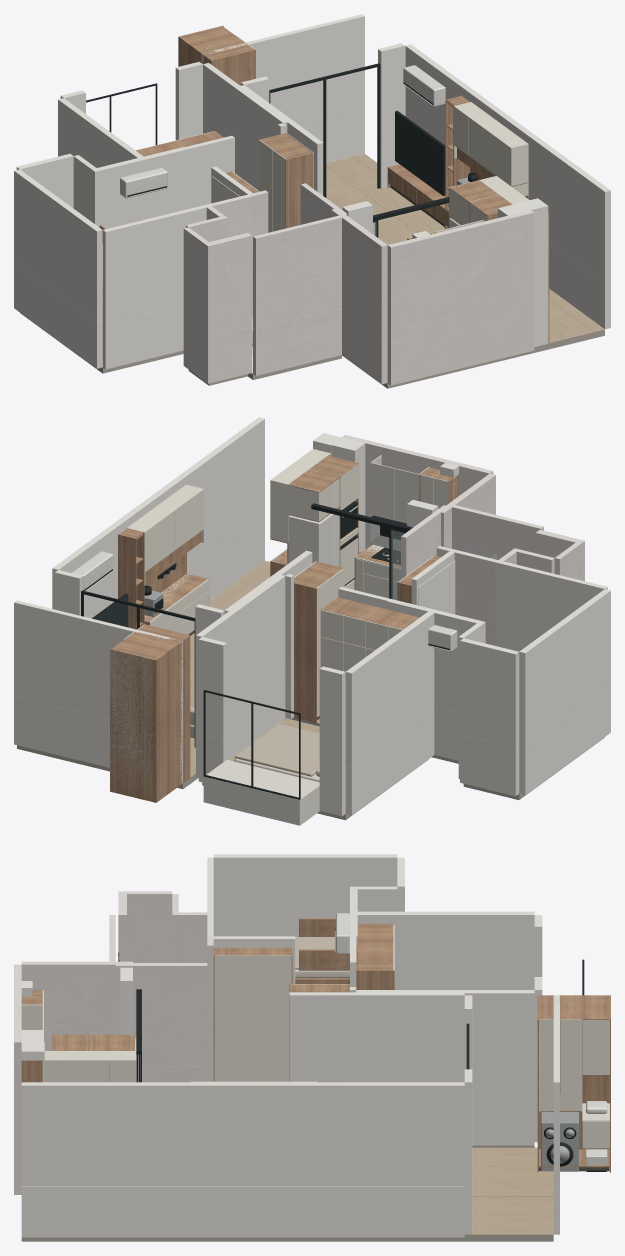
File: home.glb
The picture shows the model from 3 angles, top to bottom: view 1: azimuth 30°, elevation 25°; view 2: azimuth 150°, elevation 25°; view 3: azimuth 270°, elevation 25°; orthographic projection. The views are drawn at different scales.
Visible parts, largest first — view 1: second__wall-high__菱花白 OW025-4 电子参考 F3F0EA, kitchen__wall-high__奶芙米 SF-V157509-0822X 750x1500, bath__wall-high__奶芙米 SF-V157509-0822X 750x1500, living__wall-high__菱花白 OW025-4 电子参考 F3F0EA, master__wall-high__菱花白 OW025-4 电子参考 F3F0EA, balcony__uncertain-high__菱花白 OW025-4 电子参考 F3F0EA, second__wall-low__菱花白 OW025-4 电子参考 F3F0EA, bath__wall-low__奶芙米 SF-V157509-0822X 750x1500, living__solid__蜜杏 SF-WI1U1260805X 600x1200, living__solid__10447EBH 奶油白 官网电子板样, living__wall-low__菱花白 OW025-4 电子参考 F3F0EA, living__solid__10034Y06 南非柚木 官网电子板样 (+20 smaller); view 2: second__wall-high__菱花白 OW025-4 电子参考 F3F0EA, master__wall-high__菱花白 OW025-4 电子参考 F3F0EA, balcony__solid__10034Y06 南非柚木 官网电子板样, living__wall-high__菱花白 OW025-4 电子参考 F3F0EA, bath__wall-high__奶芙米 SF-V157509-0822X 750x1500, balcony__uncertain-high__菱花白 OW025-4 电子参考 F3F0EA, master__wall-low__菱花白 OW025-4 电子参考 F3F0EA, second__wall-low__菱花白 OW025-4 电子参考 F3F0EA, kitchen__solid__10447EBH 奶油白 官网电子板样, master__solid__暖白石材 具体石种待选, living__solid__10447EBH 奶油白 官网电子板样, balcony__wall-low__菱花白 OW025-4 电子参考 F3F0EA (+24 smaller); view 3: living__wall-high__菱花白 OW025-4 电子参考 F3F0EA, living__wall-low__菱花白 OW025-4 电子参考 F3F0EA, master__wall-high__菱花白 OW025-4 电子参考 F3F0EA, second__wall-high__菱花白 OW025-4 电子参考 F3F0EA, bath__wall-high__奶芙米 SF-V157509-0822X 750x1500, corridor__solid__10447EBH 奶油白 官网电子板样, kitchen__wall-high__奶芙米 SF-V157509-0822X 750x1500, balcony__solid__蜜杏 SF-WI1U1260805X 600x1200, balcony__solid__10447EBH 奶油白 官网电子板样, balcony__solid__10034Y06 南非柚木 官网电子板样, master__wall-low__菱花白 OW025-4 电子参考 F3F0EA, entry__solid__10447EBH 奶油白 官网电子板样 (+15 smaller).
Part boxes in pixels (bbox=[...]): second__wall-high__菱花白 OW025-4 电子参考 F3F0EA: bbox=[14, 147, 252, 322]; kitchen__wall-high__奶芙米 SF-V157509-0822X 750x1500: bbox=[331, 208, 534, 385]; bath__wall-high__奶芙米 SF-V157509-0822X 750x1500: bbox=[183, 183, 346, 337]; living__wall-high__菱花白 OW025-4 电子参考 F3F0EA: bbox=[239, 43, 610, 282]; master__wall-high__菱花白 OW025-4 电子参考 F3F0EA: bbox=[58, 61, 288, 218]; balcony__uncertain-high__菱花白 OW025-4 电子参考 F3F0EA: bbox=[201, 14, 364, 123]; second__wall-low__菱花白 OW025-4 电子参考 F3F0EA: bbox=[14, 262, 183, 369]; bath__wall-low__奶芙米 SF-V157509-0822X 750x1500: bbox=[183, 287, 341, 383]; living__solid__蜜杏 SF-WI1U1260805X 600x1200: bbox=[331, 187, 604, 343]; living__solid__10447EBH 奶油白 官网电子板样: bbox=[449, 102, 528, 227]; living__wall-low__菱花白 OW025-4 电子参考 F3F0EA: bbox=[380, 139, 610, 329]; living__solid__10034Y06 南非柚木 官网电子板样: bbox=[387, 95, 528, 228]; second__wall-high__菱花白 OW025-4 电子参考 F3F0EA: bbox=[387, 550, 610, 748]; master__wall-high__菱花白 OW025-4 电子参考 F3F0EA: bbox=[196, 574, 434, 768]; balcony__solid__10034Y06 南非柚木 官网电子板样: bbox=[110, 624, 190, 802]; living__wall-high__菱花白 OW025-4 电子参考 F3F0EA: bbox=[52, 417, 312, 700]; bath__wall-high__奶芙米 SF-V157509-0822X 750x1500: bbox=[401, 505, 584, 645]; balcony__uncertain-high__菱花白 OW025-4 电子参考 F3F0EA: bbox=[14, 600, 182, 735]; master__wall-low__菱花白 OW025-4 电子参考 F3F0EA: bbox=[196, 669, 434, 816]; second__wall-low__菱花白 OW025-4 电子参考 F3F0EA: bbox=[434, 685, 610, 796]; kitchen__solid__10447EBH 奶油白 官网电子板样: bbox=[288, 455, 448, 599]; master__solid__暖白石材 具体石种待选: bbox=[203, 760, 319, 825]; living__solid__10447EBH 奶油白 官网电子板样: bbox=[127, 484, 209, 634]; balcony__wall-low__菱花白 OW025-4 电子参考 F3F0EA: bbox=[14, 696, 182, 783]; living__wall-high__菱花白 OW025-4 电子参考 F3F0EA: bbox=[21, 992, 472, 1186]; living__wall-low__菱花白 OW025-4 电子参考 F3F0EA: bbox=[21, 1183, 472, 1237]; master__wall-high__菱花白 OW025-4 电子参考 F3F0EA: bbox=[350, 911, 542, 1094]; second__wall-high__菱花白 OW025-4 电子参考 F3F0EA: bbox=[207, 854, 404, 1032]; bath__wall-high__奶芙米 SF-V157509-0822X 750x1500: bbox=[109, 891, 213, 1066]; corridor__solid__10447EBH 奶油白 官网电子板样: bbox=[214, 955, 348, 1081]; kitchen__wall-high__奶芙米 SF-V157509-0822X 750x1500: bbox=[14, 961, 132, 1194]; balcony__solid__蜜杏 SF-WI1U1260805X 600x1200: bbox=[465, 1147, 553, 1235]; balcony__solid__10447EBH 奶油白 官网电子板样: bbox=[538, 1019, 609, 1148]; balcony__solid__10034Y06 南非柚木 官网电子板样: bbox=[537, 995, 610, 1172]; master__wall-low__菱花白 OW025-4 电子参考 F3F0EA: bbox=[472, 1091, 537, 1145]; entry__solid__10447EBH 奶油白 官网电子板样: bbox=[44, 1051, 136, 1082].
Bounding box in the file's own units: 8.59 × 2.76 × 9.38.
Materials: 17 (4 with a texture image).
